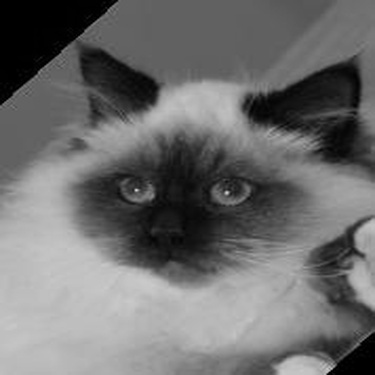cat: (13, 36, 365, 363)
